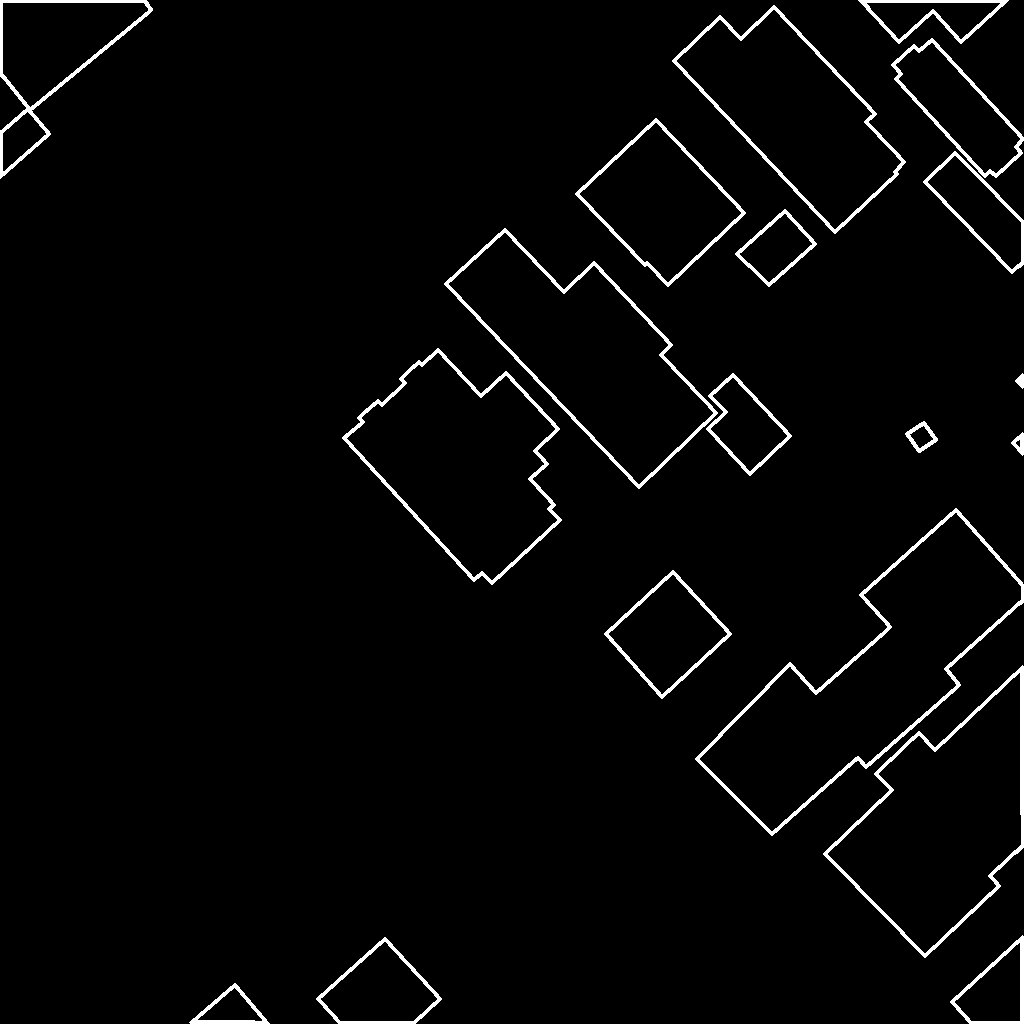building: (697, 510, 1024, 835), (446, 230, 717, 488), (825, 667, 1024, 957), (674, 7, 905, 233), (344, 350, 561, 584), (577, 120, 745, 286), (893, 40, 1024, 177), (0, 0, 152, 111), (606, 572, 731, 698), (925, 153, 1024, 273), (318, 939, 441, 1024), (708, 375, 791, 475), (860, 0, 1008, 43), (952, 937, 1024, 1024), (737, 211, 816, 286), (0, 109, 50, 178), (191, 985, 269, 1024), (1013, 375, 1024, 455), (907, 423, 937, 452)
